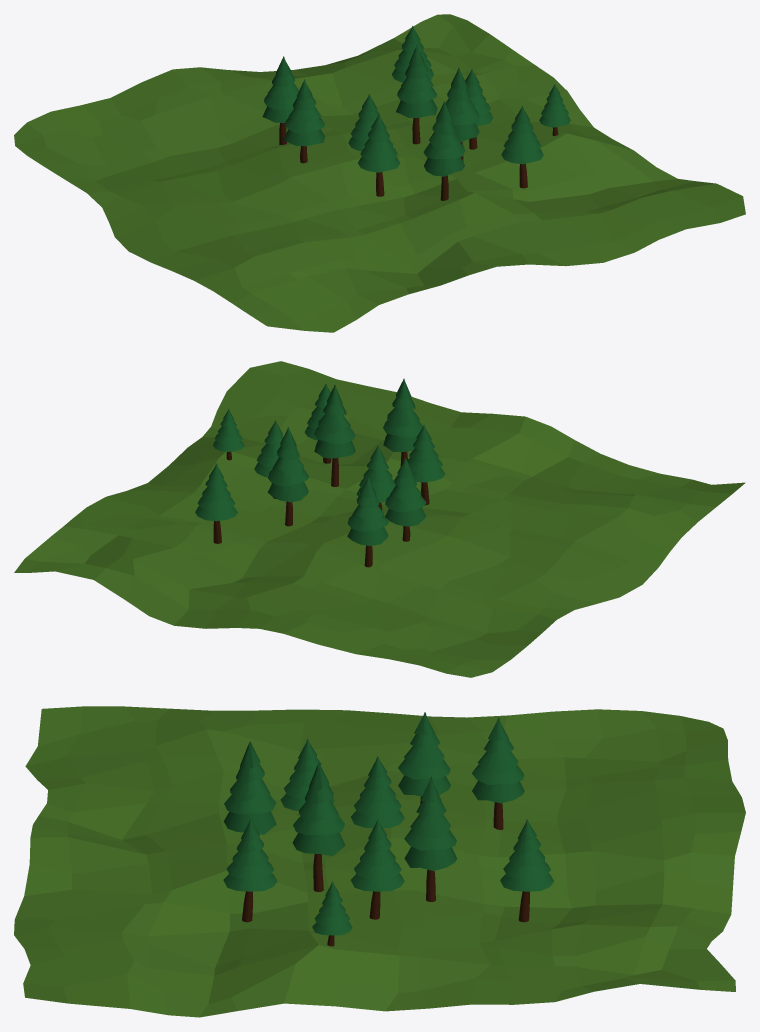
Rendered from outside.fbx.
3 renders of one model, top to bottom at view 1: azimuth 30°, elevation 25°; view 2: azimuth 150°, elevation 25°; view 3: azimuth 270°, elevation 25°, orthographic. The views are drawn at different scales.
Visible parts, largest first — view 1: Plane.005, Cylinder.020, Cylinder.015, Cylinder.025, Cylinder.018, Cylinder.024, Cylinder.023, Cylinder.010, Cylinder.022, Cylinder.021, Cylinder.019, Cylinder.008; view 2: Plane.005, Cylinder.010, Cylinder.015, Cylinder.023, Cylinder.025, Cylinder.020, Cylinder.022, Cylinder.024, Cylinder.021, Cylinder.008, Cylinder.019, Cylinder.018; view 3: Plane.005, Cylinder.010, Cylinder.015, Cylinder.023, Cylinder.020, Cylinder.025, Cylinder.018, Cylinder.022, Cylinder.008, Cylinder.021, Cylinder.024, Cylinder.019.
Part boxes in pixels (box(x1,y1,x2,y2)): Plane.005: box(14, 14, 745, 332); Cylinder.020: box(423, 101, 465, 200); Cylinder.015: box(396, 45, 437, 144); Cylinder.025: box(283, 79, 324, 163); Cylinder.018: box(501, 106, 543, 188); Cylinder.024: box(358, 114, 399, 196); Cylinder.023: box(262, 56, 298, 144); Cylinder.010: box(445, 67, 479, 160); Cylinder.022: box(391, 26, 433, 82); Cylinder.021: box(348, 94, 380, 151); Cylinder.019: box(539, 84, 570, 135); Cylinder.008: box(465, 69, 493, 149); Plane.005: box(14, 361, 745, 677); Cylinder.010: box(314, 385, 355, 486); Cylinder.015: box(267, 427, 309, 526); Cylinder.023: box(347, 477, 388, 567); Cylinder.025: box(385, 458, 426, 541); Cylinder.020: box(383, 378, 422, 466); Cylinder.022: box(195, 463, 237, 543); Cylinder.024: box(407, 425, 445, 505); Cylinder.021: box(356, 445, 395, 509); Cylinder.008: box(254, 420, 283, 498); Cylinder.019: box(213, 409, 244, 460); Cylinder.018: box(304, 383, 331, 463); Plane.005: box(14, 706, 745, 1017); Cylinder.010: box(292, 762, 345, 891); Cylinder.015: box(404, 776, 457, 901); Cylinder.023: box(471, 717, 524, 830); Cylinder.020: box(223, 741, 276, 834); Cylinder.025: box(398, 712, 450, 803); Cylinder.018: box(223, 819, 277, 922); Cylinder.022: box(500, 819, 553, 922); Cylinder.008: box(350, 819, 404, 919); Cylinder.021: box(351, 756, 404, 828); Cylinder.024: box(280, 739, 334, 810); Cylinder.019: box(312, 881, 352, 946).
Size of the model in its own units: 2274 by 526 by 2267.
